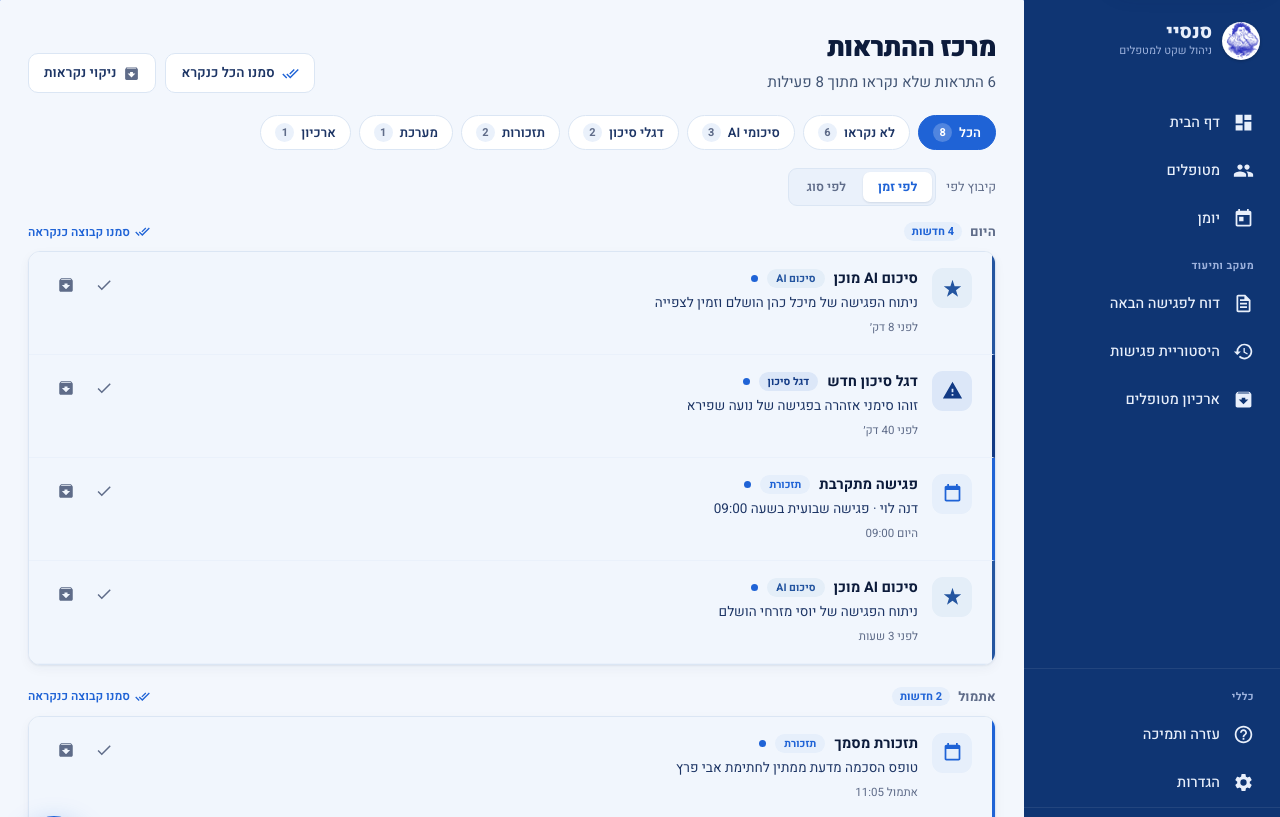
Test case: notification center — unread count, mark-all-read, filtering › the "ארכיון" filter surfaces the archived notification hidden from the active list
Expected: the element with id "main-content" does not show "פגישה בוטלה"
Click the button "ארכיון 1": (306, 132) left=260, top=115, right=351, bottom=150
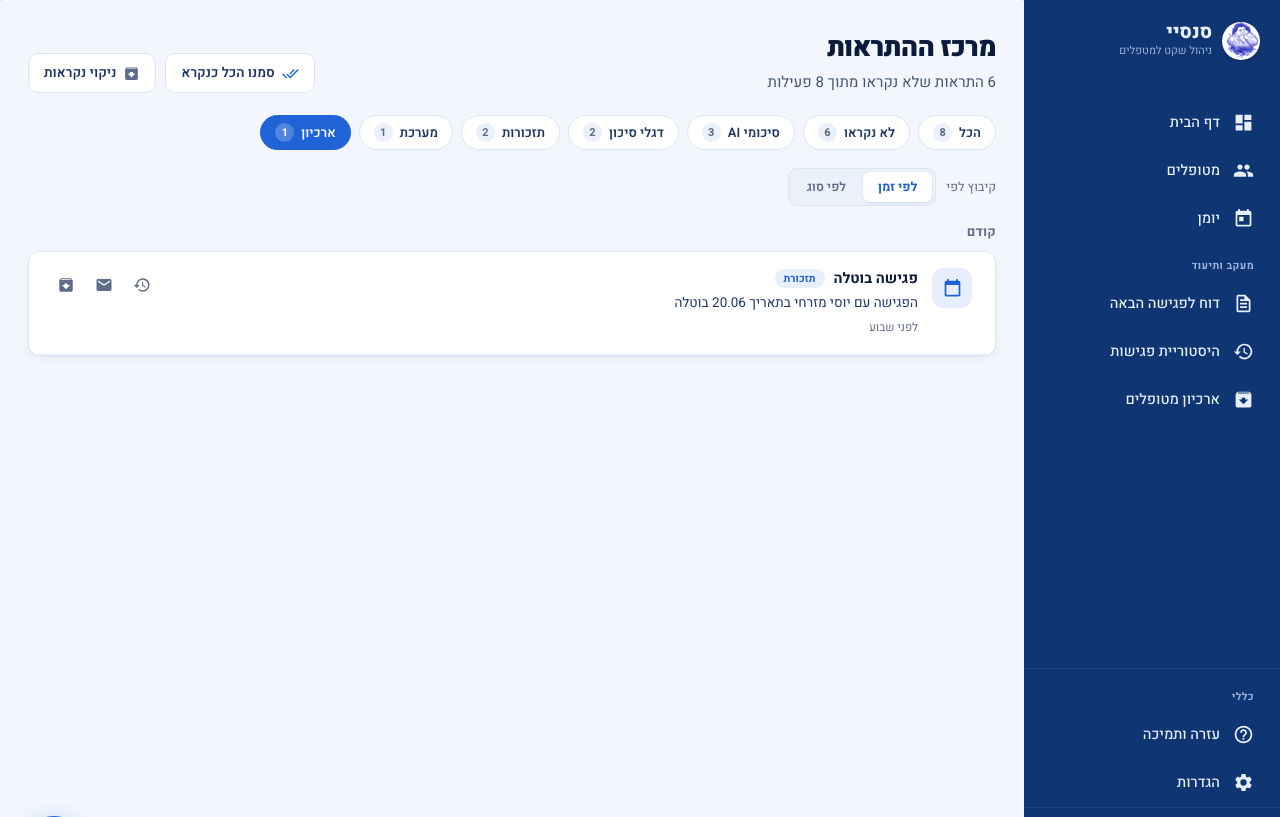
Result: the element with id "main-content" shows "פגישה בוטלה" at left=173, top=268, right=972, bottom=338
